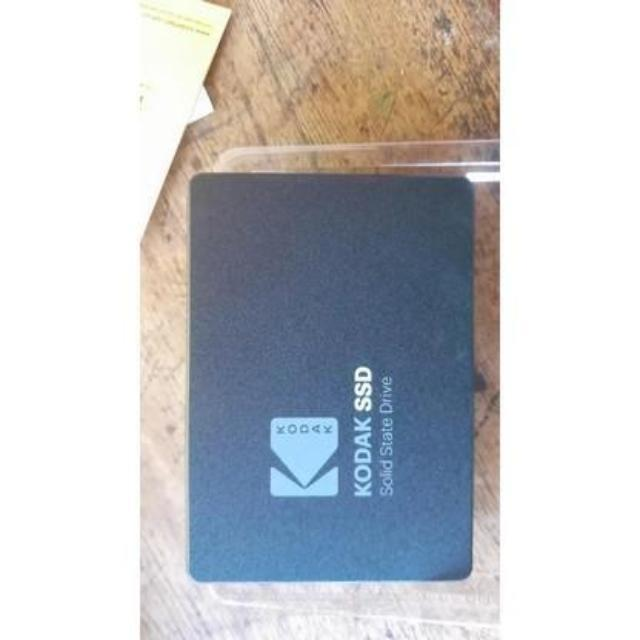DISK: (172, 150, 478, 596)
